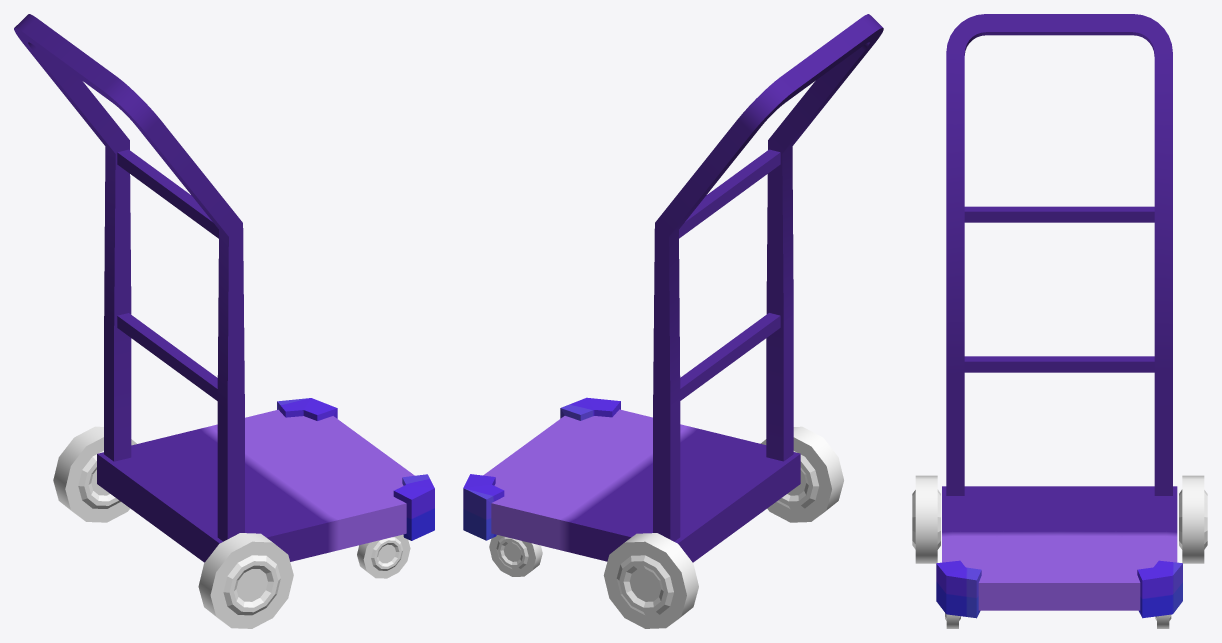
The model's file is Hand_Wagon.fbx.
3 views of the same model, side by side, from view 1: azimuth 30°, elevation 25°; view 2: azimuth 150°, elevation 25°; view 3: azimuth 270°, elevation 25° (orthographic). The views are drawn at different scales.
Parts seen in each view (by area): view 1: Hand_Wagon; view 2: Hand_Wagon; view 3: Hand_Wagon.
Part boxes in pixels (left/top/right/bottom): Hand_Wagon: left=14, top=14, right=434, bottom=628; Hand_Wagon: left=463, top=14, right=883, bottom=628; Hand_Wagon: left=912, top=14, right=1207, bottom=628.
Bounding box in the file's own units: 60.93 × 99.71 × 53.07.
